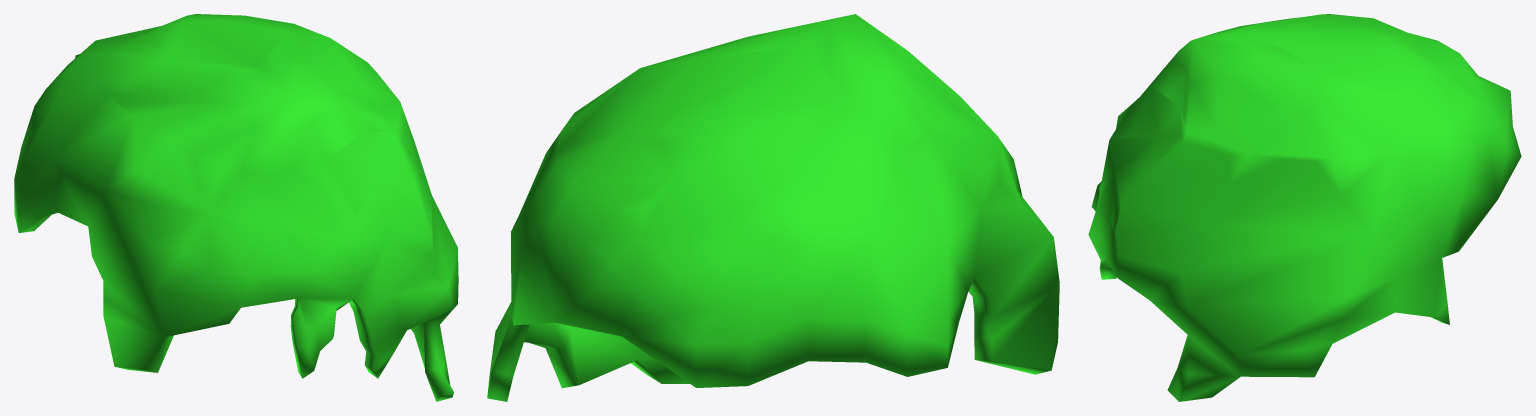
File: toxicHead.glb
3 views of the same model, side by side, from view 1: azimuth 30°, elevation 25°; view 2: azimuth 150°, elevation 25°; view 3: azimuth 270°, elevation 25° (orthographic). The views are drawn at different scales.
Visible parts, largest first — view 1: Toxic Head; view 2: Toxic Head; view 3: Toxic Head.
Boxes of the visible parts, x1,y1,x2,y2 form: Toxic Head: (14,14,458,401); Toxic Head: (487,14,1059,401); Toxic Head: (1088,14,1521,401).
Bounding box in the file's own units: 0.7339 × 0.6586 × 0.8477.
